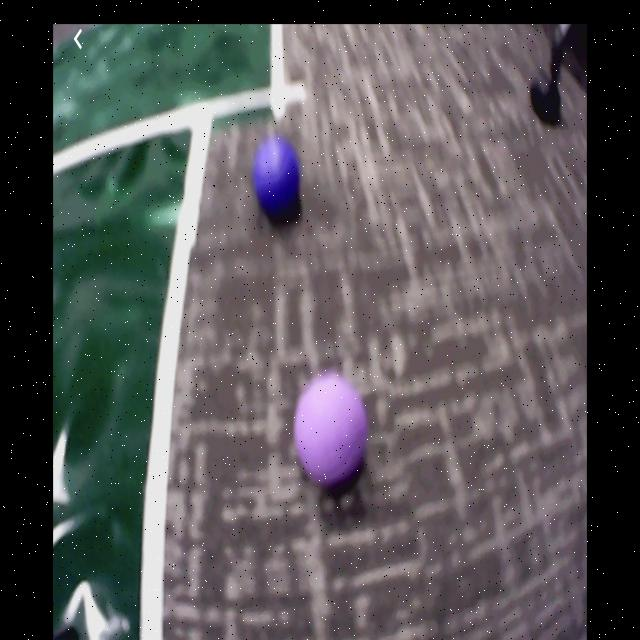ball: (296, 377, 368, 487), (254, 137, 301, 216)
